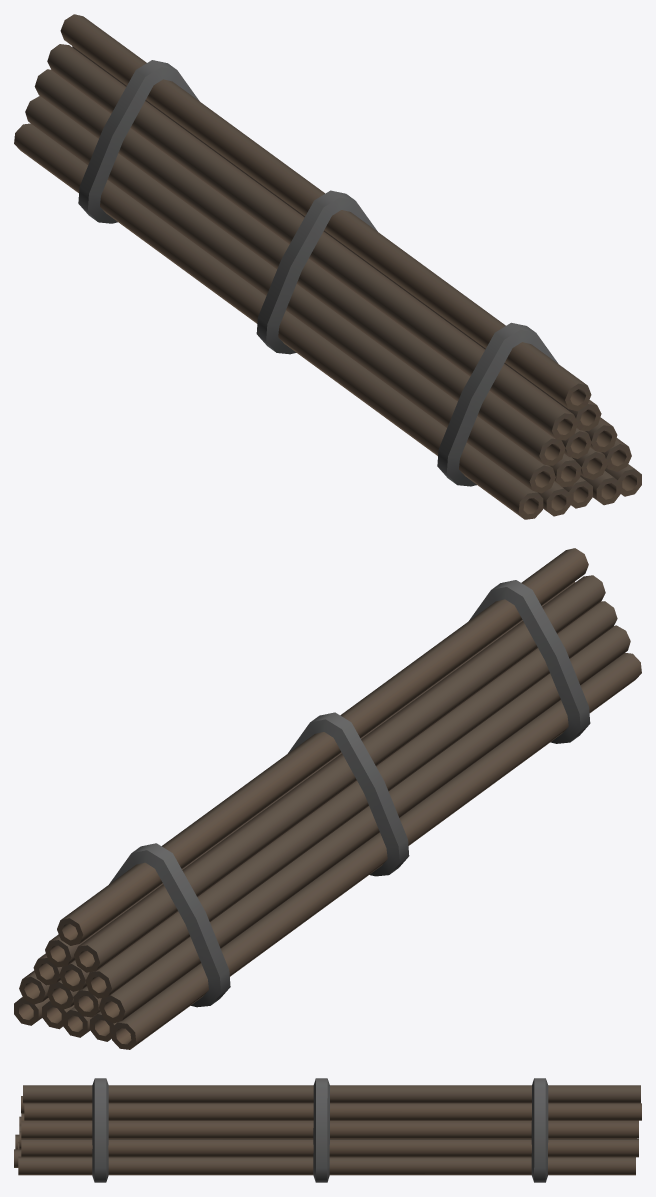
Rendered from Pipes_C_3_2.glb.
3 renders of one model, top to bottom at view 1: azimuth 30°, elevation 25°; view 2: azimuth 150°, elevation 25°; view 3: azimuth 270°, elevation 25°, orthographic. The views are drawn at different scales.
Visible parts, largest first — view 1: Pipes_C_3_2; view 2: Pipes_C_3_2; view 3: Pipes_C_3_2.
Part boxes in pixels (x1,y1,x2,y2): Pipes_C_3_2: (14, 14, 641, 519); Pipes_C_3_2: (14, 548, 641, 1049); Pipes_C_3_2: (14, 1078, 641, 1182).
Bounding box in the file's own units: 0.9026 × 0.874 × 5.6.
Materials: 1 (1 with a texture image).
